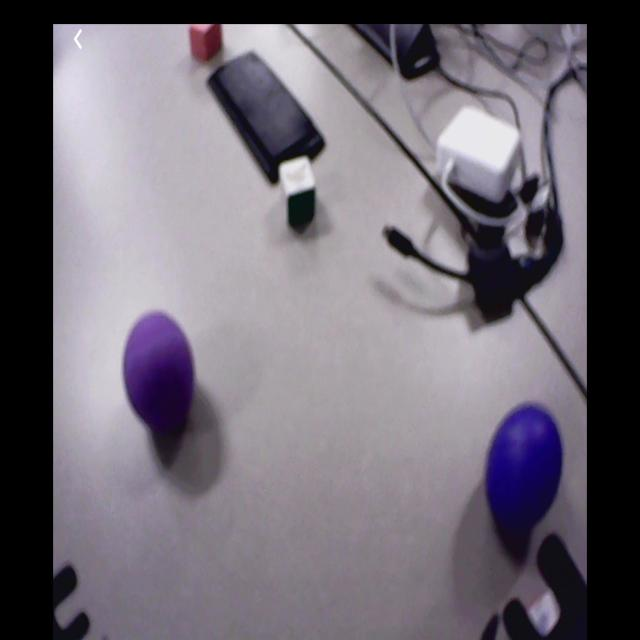ball: (487, 407, 564, 535), (123, 311, 199, 432)
